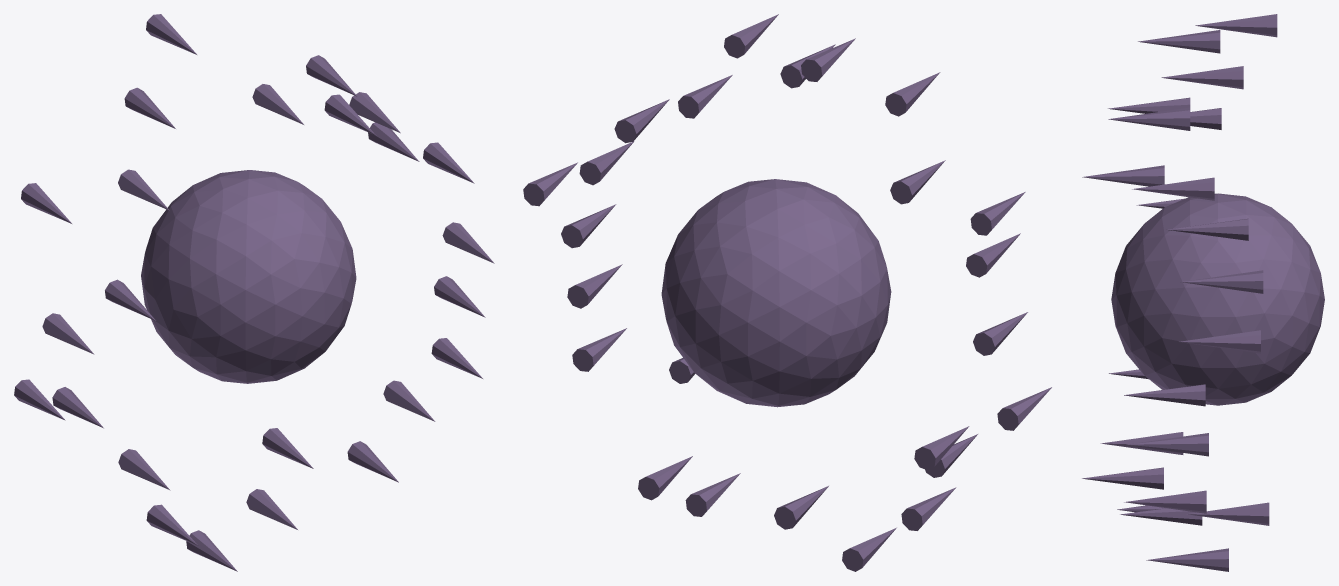
The model's file is tech_143.glb.
The picture shows the model from 3 angles, left to right: view 1: azimuth 30°, elevation 25°; view 2: azimuth 150°, elevation 25°; view 3: azimuth 270°, elevation 25°; orthographic projection. The views are drawn at different scales.
Visible parts, largest first — view 1: world; view 2: world; view 3: world.
Boxes of the visible parts, bbox=[...] form: world: bbox=[14, 14, 494, 571]; world: bbox=[523, 14, 1051, 571]; world: bbox=[1082, 14, 1324, 571].
Bounding box in the file's own units: 2.15 × 2.34 × 1.03.
